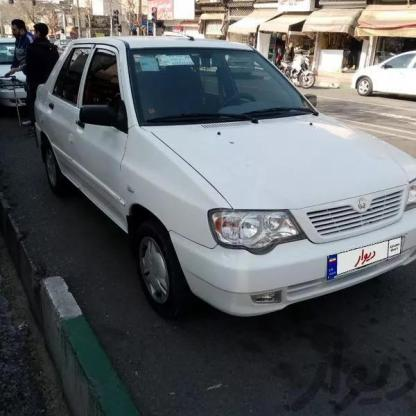Car: (36, 23, 416, 332), (344, 47, 416, 107), (0, 28, 38, 122)
